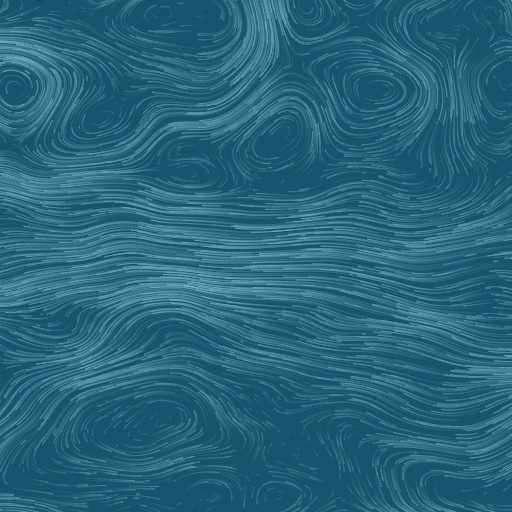eddy: (84, 386, 210, 462), (237, 100, 317, 170), (344, 64, 409, 115), (253, 476, 311, 512), (76, 103, 121, 140), (165, 159, 213, 190), (1, 66, 34, 110)
